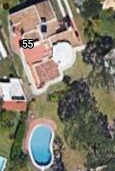pool: (32, 126, 51, 165)
